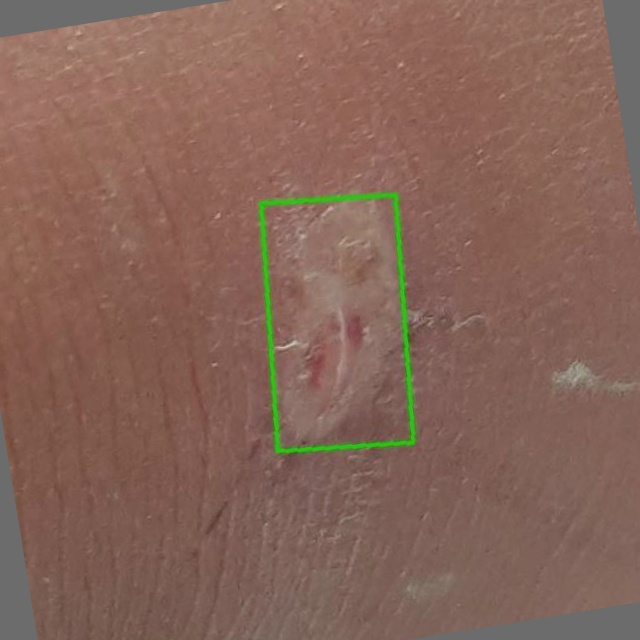Eczema: (260, 195, 412, 452)
